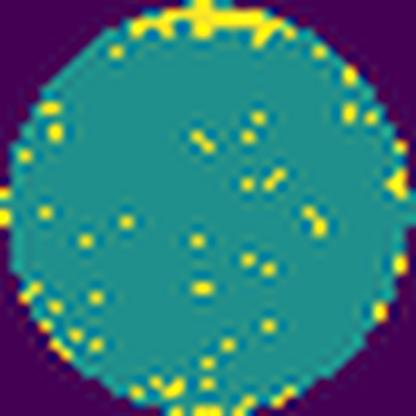Edge-Loc: (125, 0, 291, 50)
